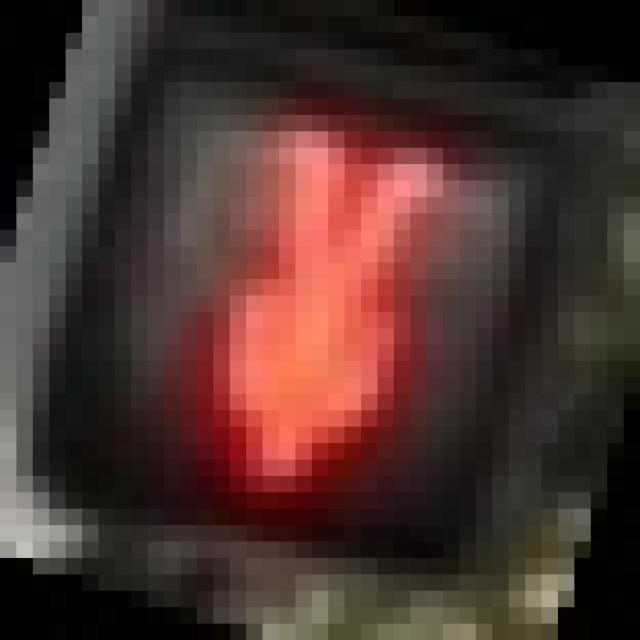red-crossing: (99, 49, 492, 542)
